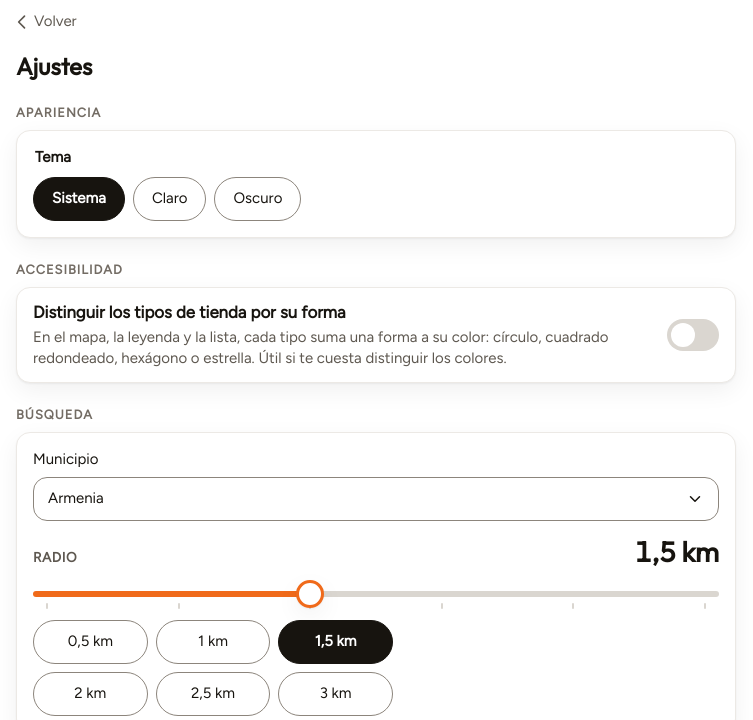
Test: ajustes › la barra del radio lo mueve y se guarda al soltar
Set the slider labelled "Radio" to "2.4" at (550, 594), box left=33, top=572, right=719, bottom=616
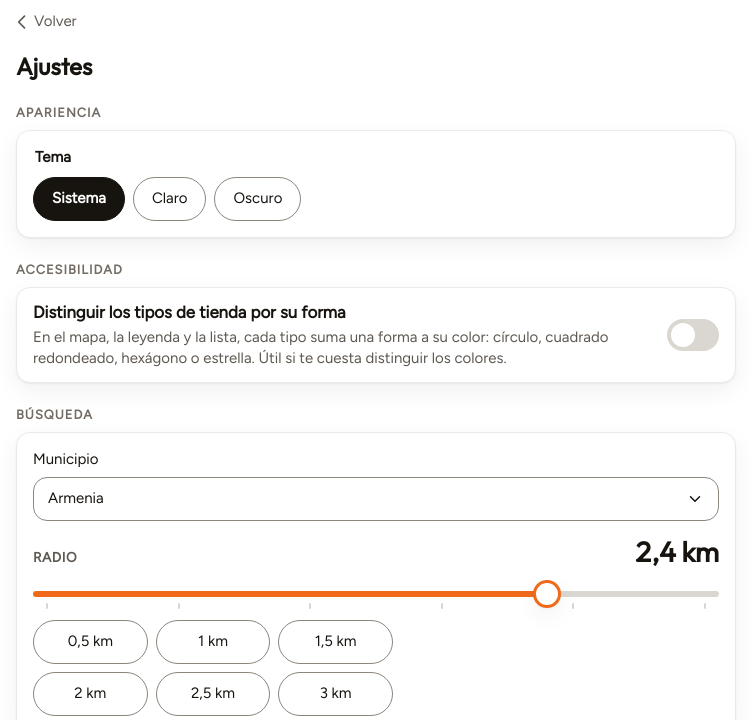
Check: the text "2,4 km" is shown, box left=635, top=537, right=719, bottom=568
